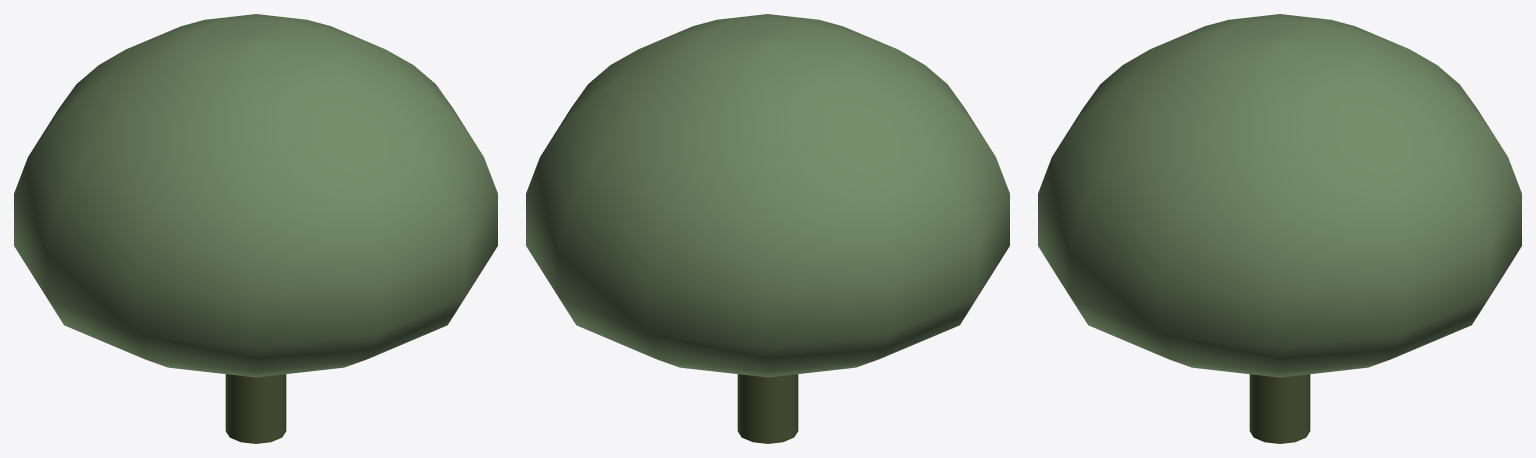
Rendered from Amazon_Sword_Plant_Analytical_0.obj.
The picture shows the model from 3 angles, left to right: view 1: azimuth 30°, elevation 25°; view 2: azimuth 150°, elevation 25°; view 3: azimuth 270°, elevation 25°; orthographic projection.
Visible parts, largest first — view 1: AnalyticalCrown, AnalyticalTrunk; view 2: AnalyticalCrown, AnalyticalTrunk; view 3: AnalyticalCrown, AnalyticalTrunk.
Boxes of the visible parts, x1,y1,x2,y2 form: AnalyticalCrown: [14, 14, 497, 377]; AnalyticalTrunk: [225, 374, 286, 443]; AnalyticalCrown: [526, 14, 1009, 377]; AnalyticalTrunk: [737, 374, 798, 443]; AnalyticalCrown: [1038, 14, 1521, 377]; AnalyticalTrunk: [1249, 374, 1310, 443].
Bounding box in the file's own units: 1.12 × 1 × 1.12.
